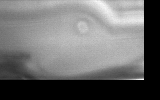cell: (60, 14, 102, 39), (17, 52, 54, 79), (69, 7, 95, 28), (73, 19, 90, 36)
